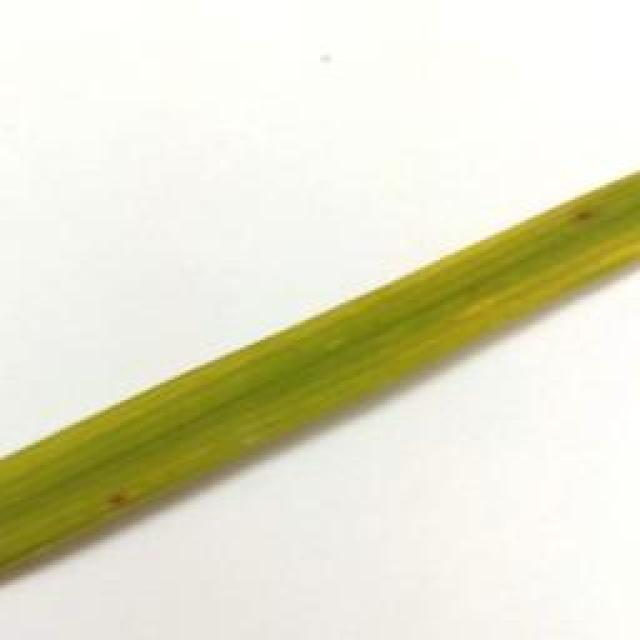Brown_Spot: (555, 211, 606, 228), (102, 482, 134, 509)
